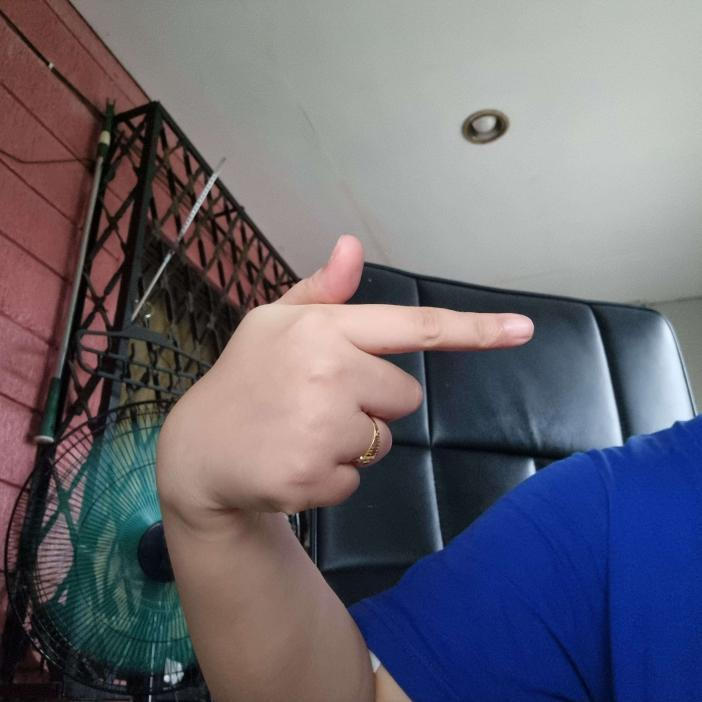g: (182, 233, 535, 518)
